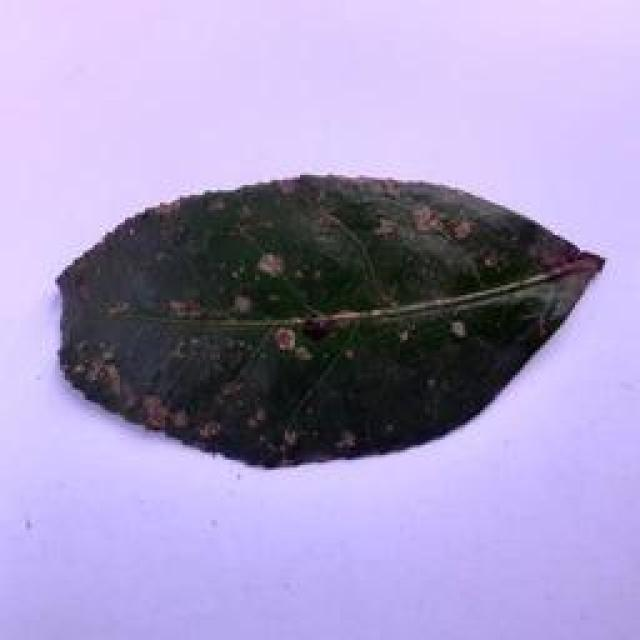Algal Leaf Spot: (51, 181, 606, 468)
